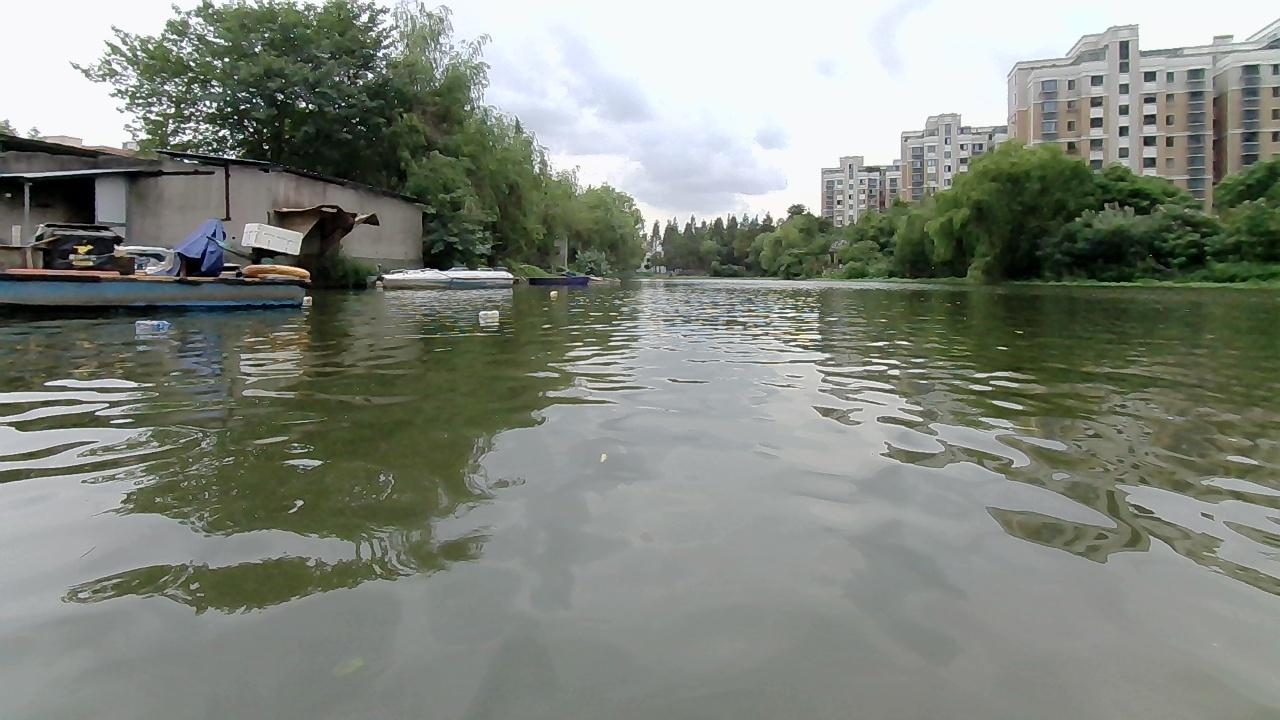bottle: (131, 318, 173, 336), (477, 308, 499, 320), (297, 293, 312, 305), (548, 289, 560, 298)
